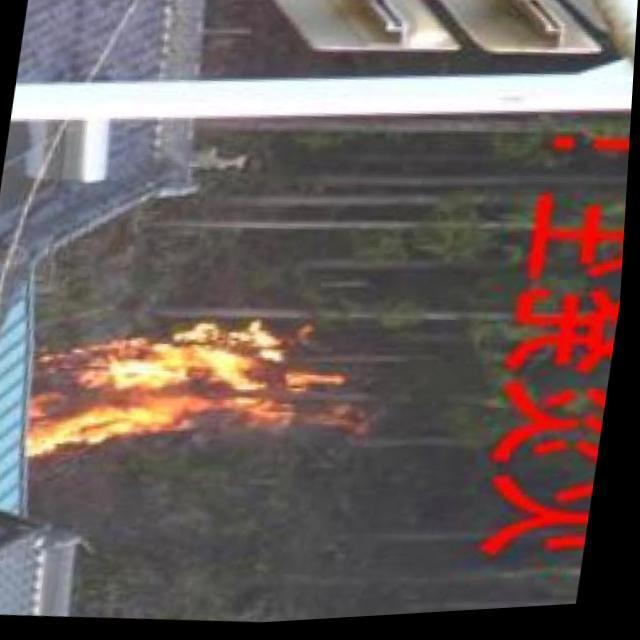fire: (17, 300, 371, 474)
